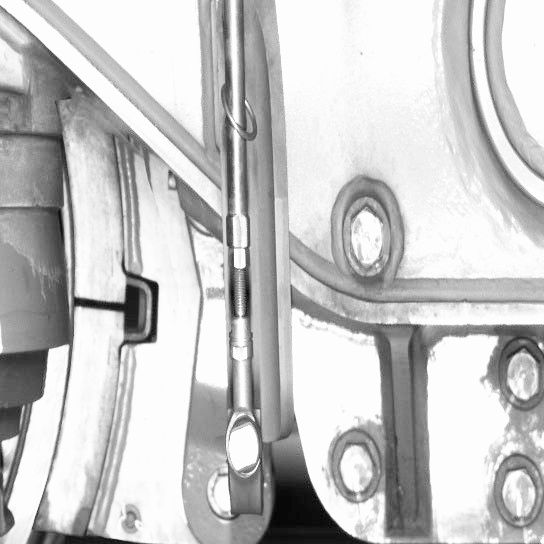ClosedKnifeSwitch: (22, 131, 139, 542)
